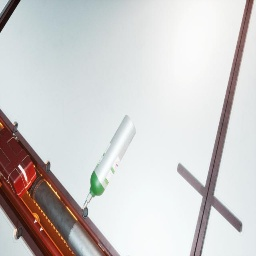0: (83, 115, 136, 209)
FirstAidBox ,: (0, 128, 36, 198)
